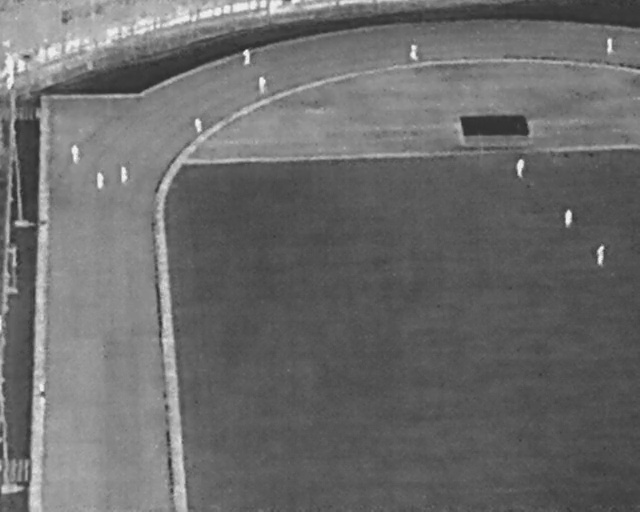Person: (596, 243, 606, 267), (38, 383, 47, 407), (95, 170, 105, 190), (71, 145, 81, 165), (515, 158, 525, 178), (409, 43, 419, 61), (257, 76, 266, 94), (120, 165, 128, 184), (194, 118, 203, 134), (564, 209, 572, 227), (606, 36, 614, 54), (243, 49, 251, 66)
